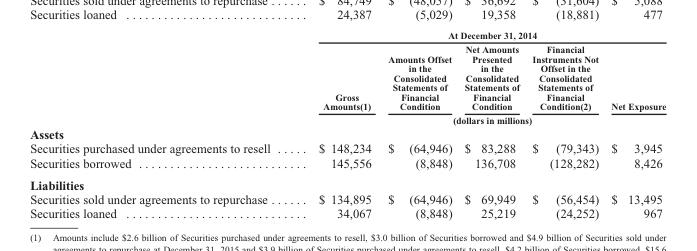table: (29, 29, 665, 220)
table column: (29, 29, 293, 220), (293, 29, 379, 220), (525, 29, 604, 220), (379, 29, 457, 220), (457, 29, 525, 220), (604, 29, 665, 220)
table column header: (29, 29, 665, 126)
table projected row header: (29, 173, 665, 191), (29, 126, 665, 140)
table row: (29, 41, 665, 113), (29, 155, 665, 173), (29, 173, 665, 191), (29, 140, 665, 155), (29, 191, 665, 206), (29, 126, 665, 140), (29, 206, 665, 220), (29, 113, 665, 126), (29, 29, 665, 41)
table spanning cell: (293, 113, 665, 126), (293, 29, 665, 41)
